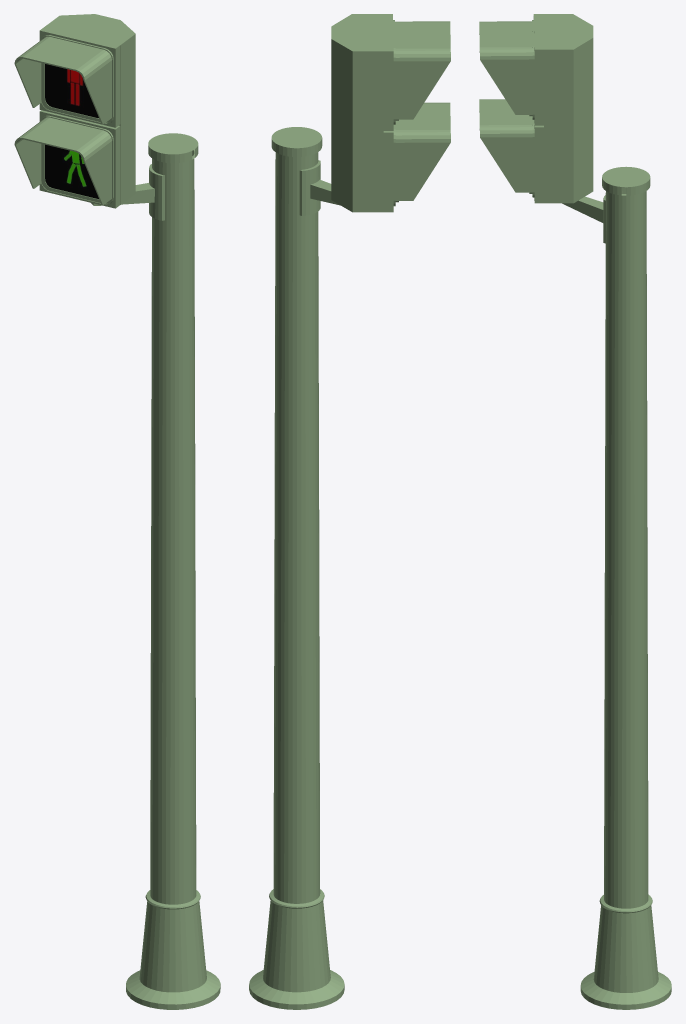
The model's file is w_highway_traffic_signals_pedestrian.glb.
The picture shows the model from 3 angles, left to right: view 1: azimuth 30°, elevation 25°; view 2: azimuth 150°, elevation 25°; view 3: azimuth 330°, elevation 25°; orthographic projection. The views are drawn at different scales.
Visible parts, largest first — view 1: semaforo (SU 2017); view 2: semaforo (SU 2017); view 3: semaforo (SU 2017).
Boxes of the visible parts, bbox=[...] form: semaforo (SU 2017): bbox=[14, 14, 220, 1009]; semaforo (SU 2017): bbox=[249, 14, 450, 1009]; semaforo (SU 2017): bbox=[479, 14, 671, 1009].
Size of the model in its own units: 0.5307 by 2.51 by 0.2848.
4 materials, 2 textured.
